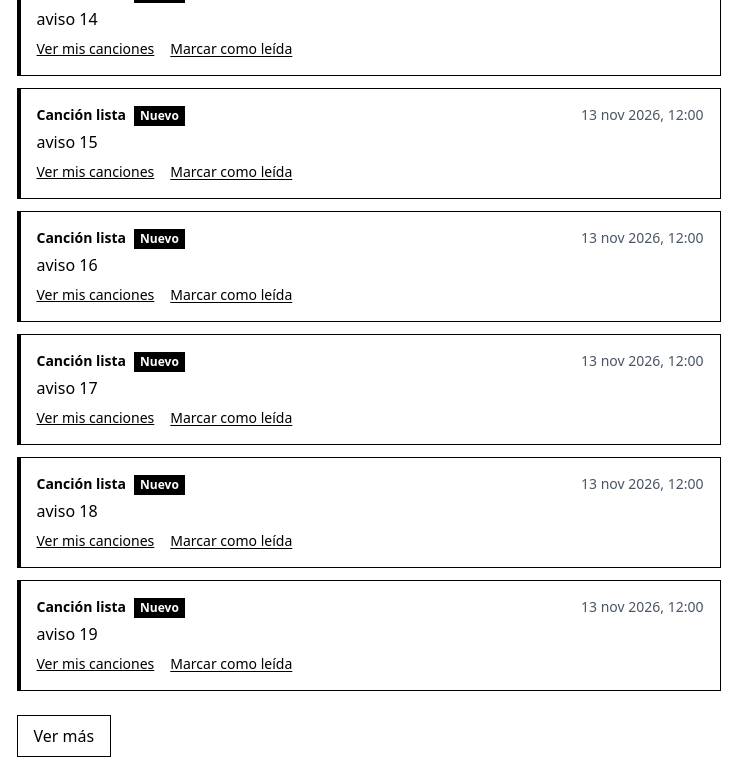
Test: Notifications › con una página llena ofrece ver más y trae la siguiente
(page scrolled)
Click the button "Ver más" at (64, 736), box [16,715,111,757]
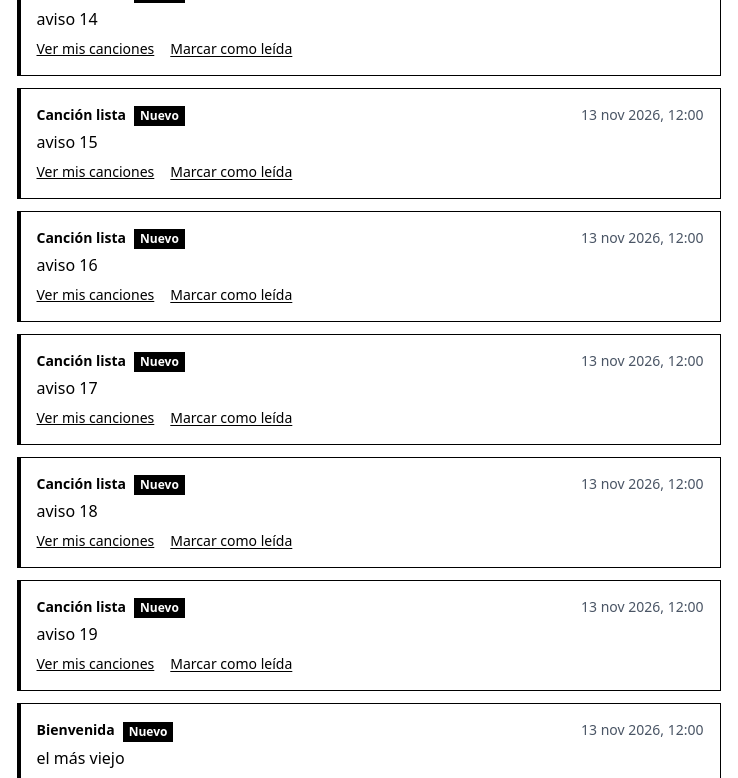
Expected: the text "el más viejo" is shown, [36,747,125,769]
Expected: the button "Ver más" is gone
